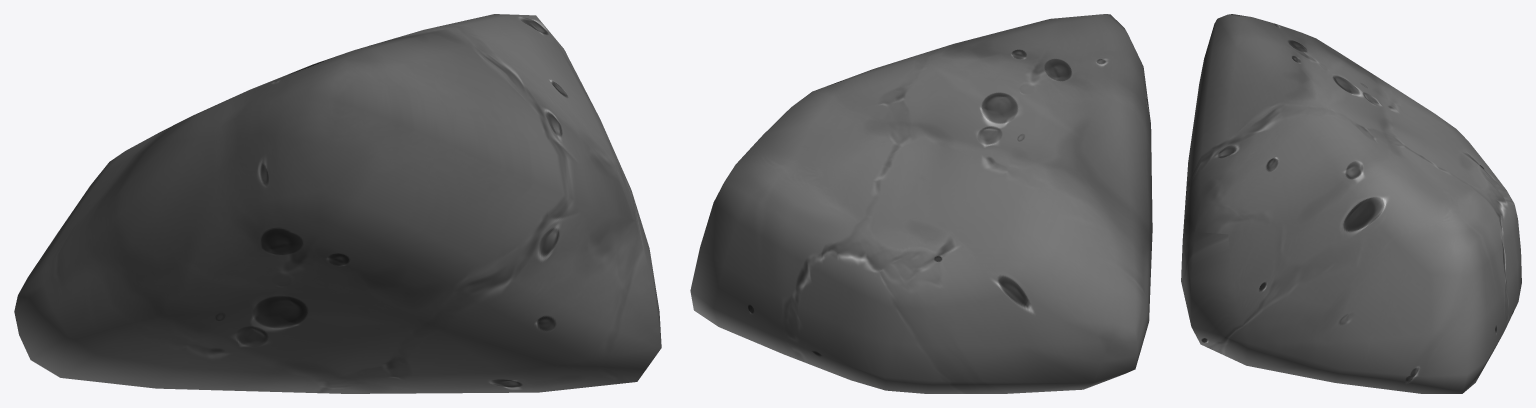
The model's file is SM_ENV_stone_14.fbx.
3 renders of one model, left to right at view 1: azimuth 30°, elevation 25°; view 2: azimuth 150°, elevation 25°; view 3: azimuth 270°, elevation 25°, orthographic. The views are drawn at different scales.
Visible parts, largest first — view 1: SM_ENV_stone_14_LOD0; view 2: SM_ENV_stone_14_LOD0; view 3: SM_ENV_stone_14_LOD0.
Boxes of the visible parts, <box> form: SM_ENV_stone_14_LOD0: <box>14,14,661,393</box>; SM_ENV_stone_14_LOD0: <box>690,14,1152,393</box>; SM_ENV_stone_14_LOD0: <box>1181,14,1521,393</box>.
Size of what is drawn, in the model's own units: 353 by 229 by 269.
